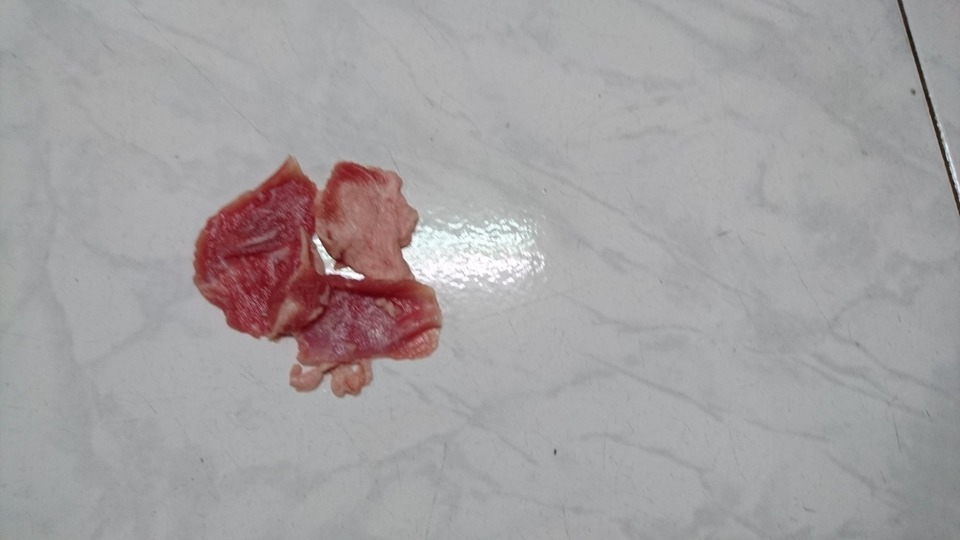restructured meat: (194, 148, 445, 404)
